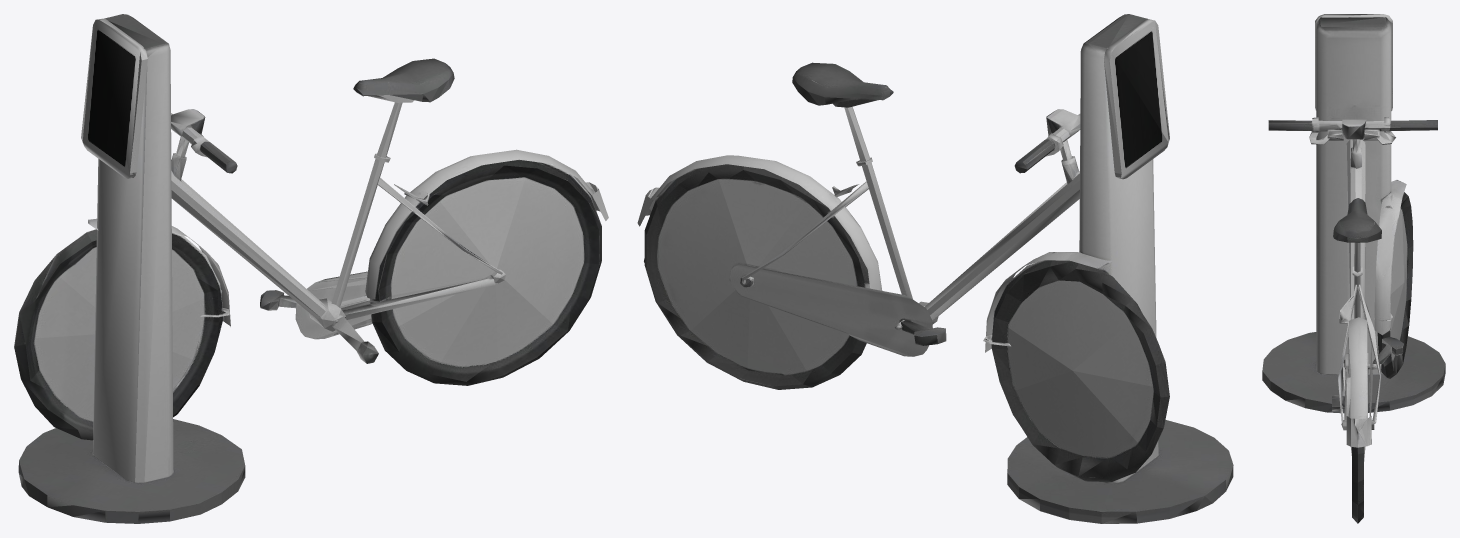
Rendered from bike_dock.glb.
3 renders of one model, left to right at view 1: azimuth 30°, elevation 25°; view 2: azimuth 150°, elevation 25°; view 3: azimuth 270°, elevation 25°, orthographic. The views are drawn at different scales.
Visible parts, largest first — view 1: bike_dock_lod0; view 2: bike_dock_lod0; view 3: bike_dock_lod0.
Part boxes in pixels (x1,y1,x2,y2): bike_dock_lod0: (14,14,608,523); bike_dock_lod0: (637,14,1233,523); bike_dock_lod0: (1262,14,1445,523).
Size of what is drawn, in the model's own units: 1.49 by 1.1 by 0.5121.
Materials: 1 (1 with a texture image).
